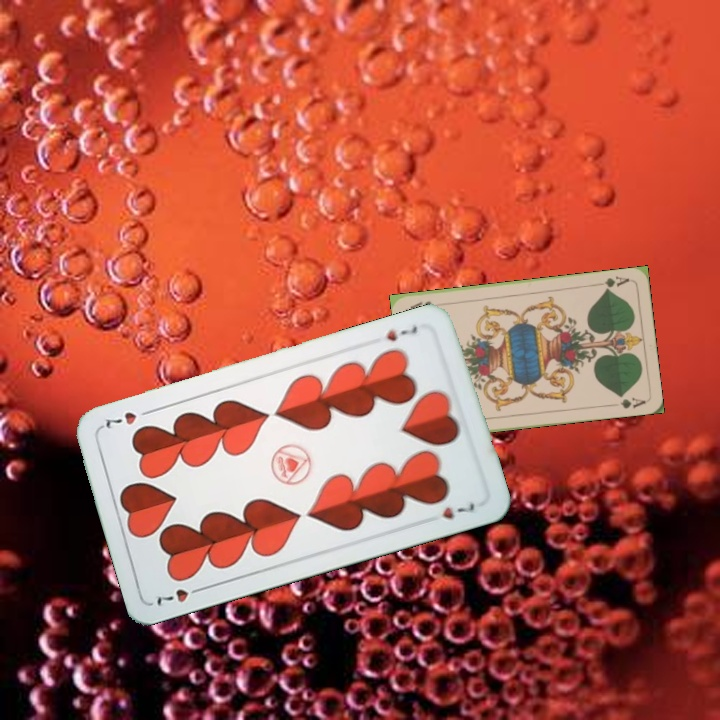GA: (592, 272, 632, 293)
H7: (152, 583, 208, 608), (382, 322, 420, 344)
